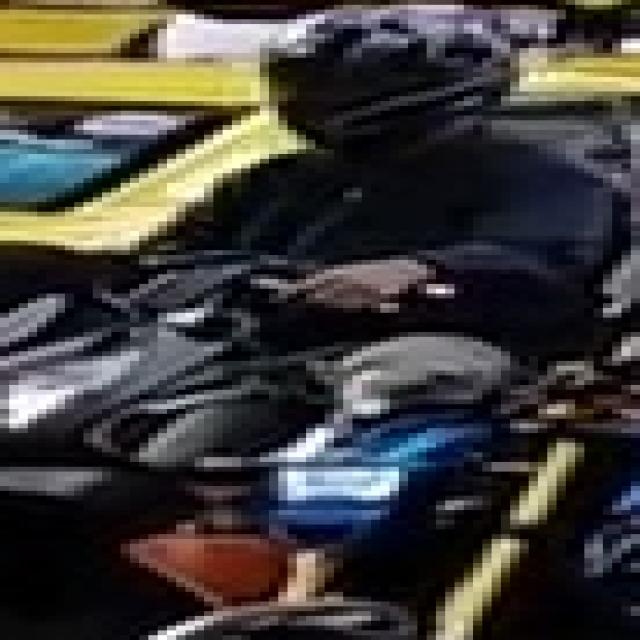door: (0, 0, 631, 635)
helmet: (251, 0, 510, 149)
